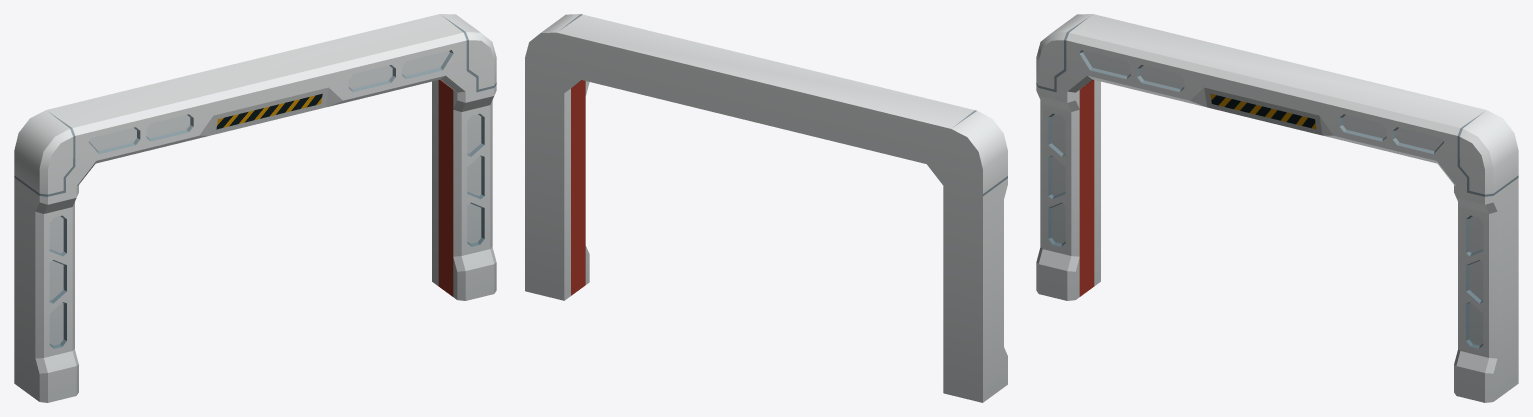
The model's file is Door_009.fbx.
3 renders of one model, left to right at view 1: azimuth 30°, elevation 25°; view 2: azimuth 150°, elevation 25°; view 3: azimuth 330°, elevation 25°, orthographic.
Parts seen in each view (by area): view 1: Door_009; view 2: Door_009; view 3: Door_009.
Part boxes in pixels (<box>): Door_009: <box>14,14,496,402</box>; Door_009: <box>525,14,1007,402</box>; Door_009: <box>1036,14,1518,402</box>.
Bounding box in the file's own units: 604 × 64.45 × 336.
